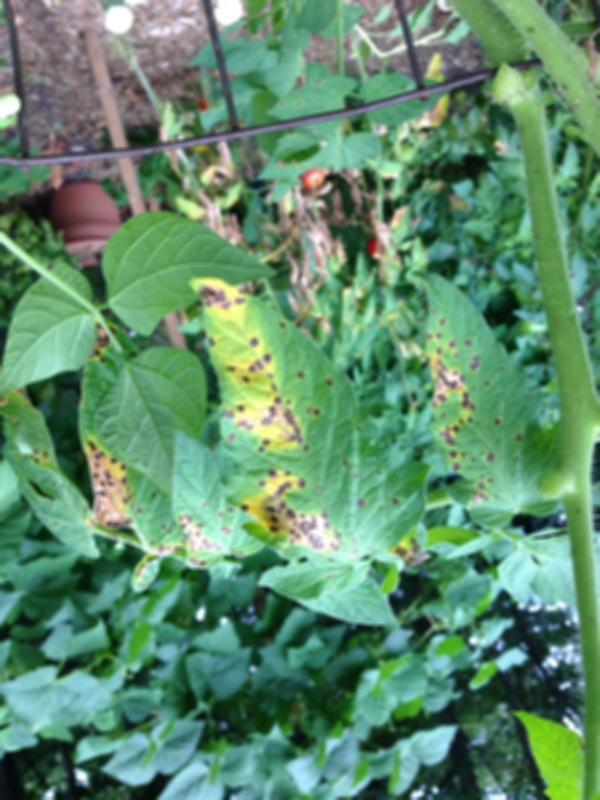Tomato Septoria leaf spot: (190, 277, 394, 557), (414, 280, 540, 530), (177, 419, 236, 563)
Tomato leaf: (1, 260, 98, 398)
